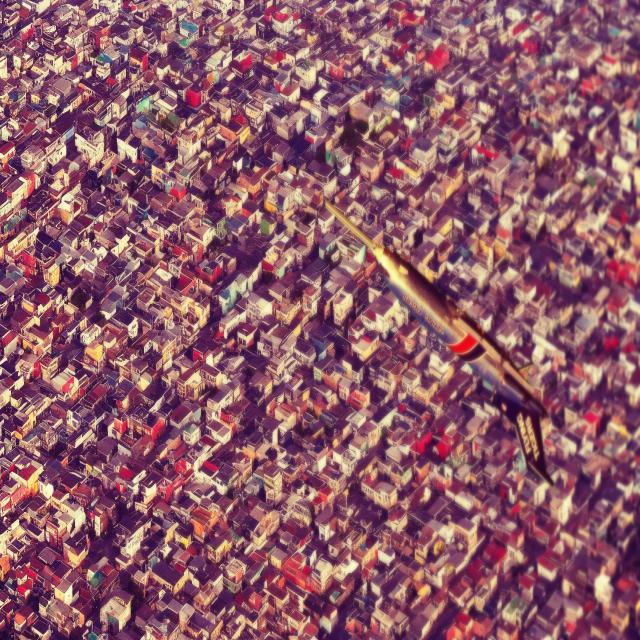airplane: (322, 196, 556, 488)
